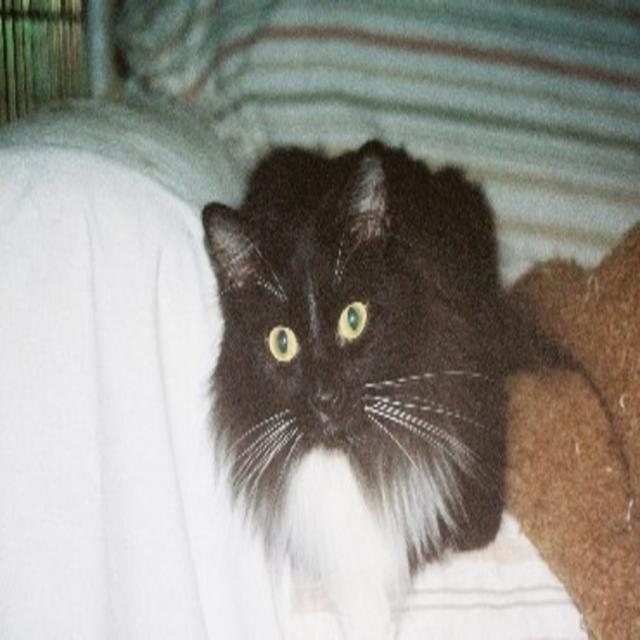Cat: (201, 137, 504, 639)
